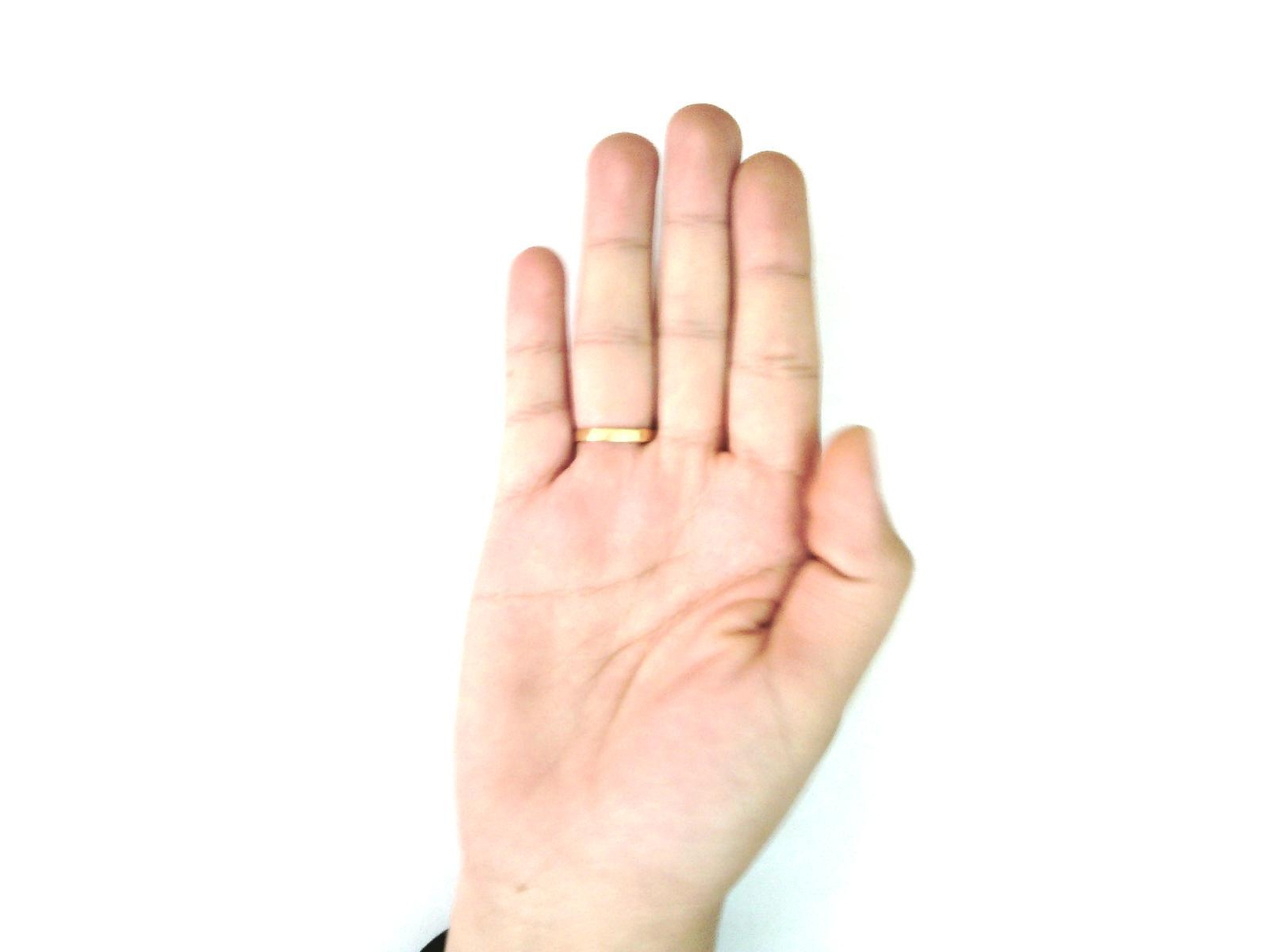open_palm: (443, 103, 918, 950)
